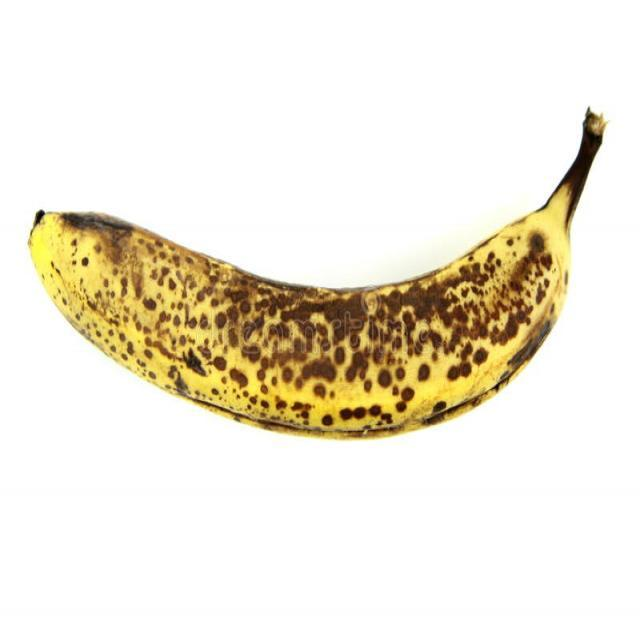Banana: (28, 114, 615, 430)
